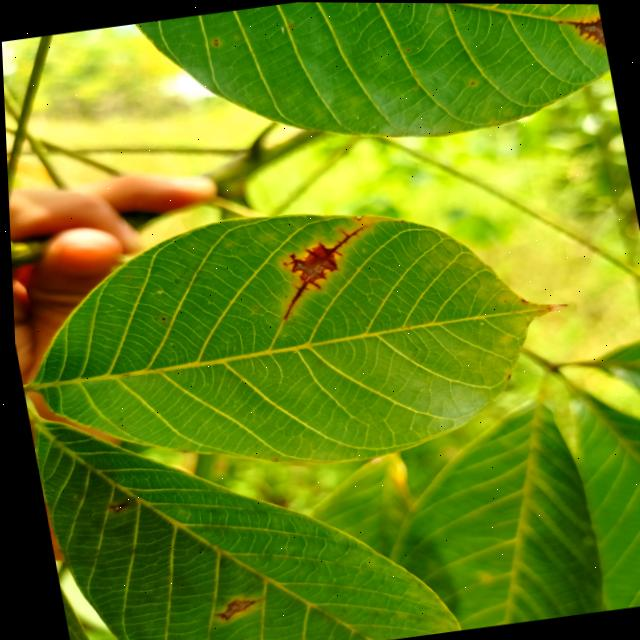Corynespora: (265, 223, 379, 321), (566, 16, 606, 51)
Leaf-Blight: (216, 597, 251, 620), (545, 300, 566, 311)
